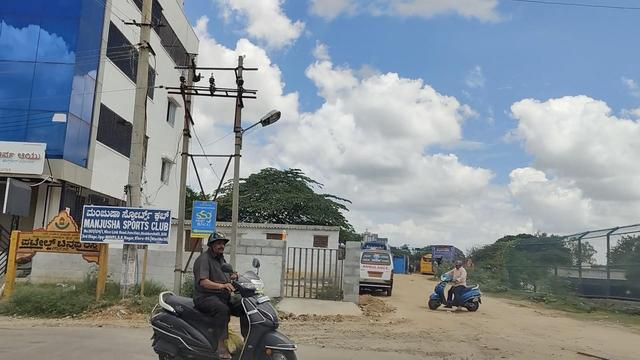LMV: (159, 241, 278, 360), (430, 260, 476, 307), (359, 247, 394, 292)
